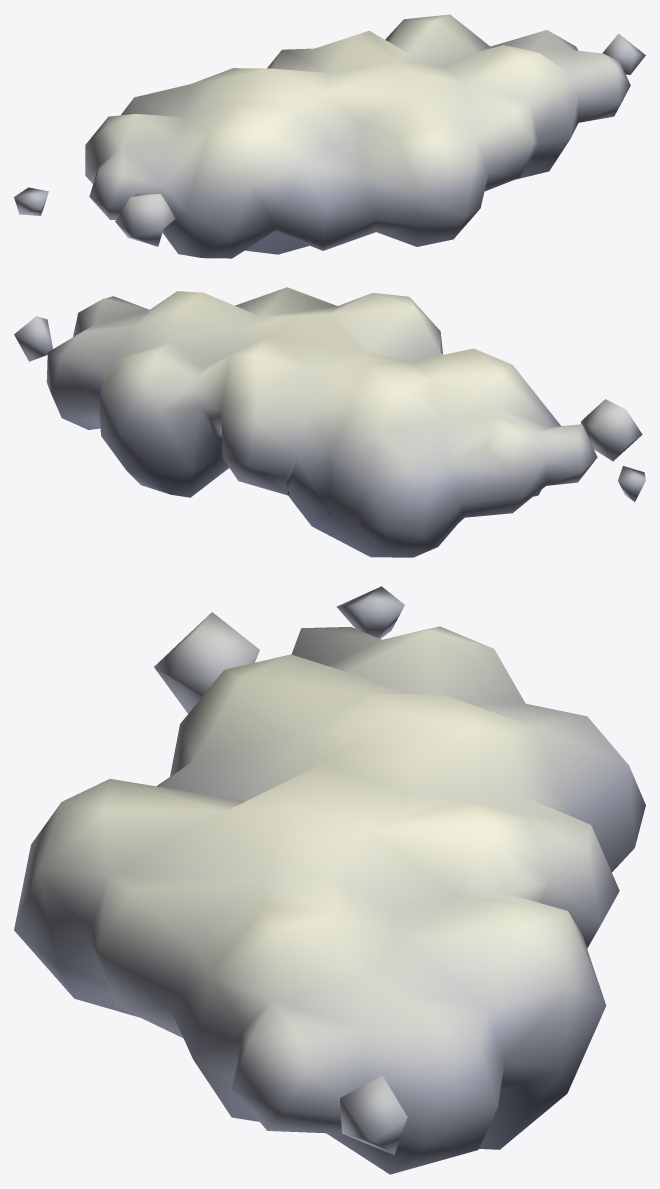
Rendered from checkpointcloud.glb.
3 views of the same model, one above another, from view 1: azimuth 30°, elevation 25°; view 2: azimuth 150°, elevation 25°; view 3: azimuth 270°, elevation 25° (orthographic). The views are drawn at different scales.
Parts seen in each view (by area): view 1: Mball.001; view 2: Mball.001; view 3: Mball.001.
Boxes of the visible parts, <box> form: Mball.001: <box>14,14,645,258</box>; Mball.001: <box>14,287,645,557</box>; Mball.001: <box>14,586,645,1174</box>.
Bounding box in the file's own units: 5.85 × 1.53 × 2.91.
1 material, 1 textured.
